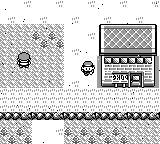main: (81, 61, 95, 76)
no-caminable: (99, 23, 157, 88)
npc: (17, 52, 31, 68)
puerta: (130, 73, 142, 87)
